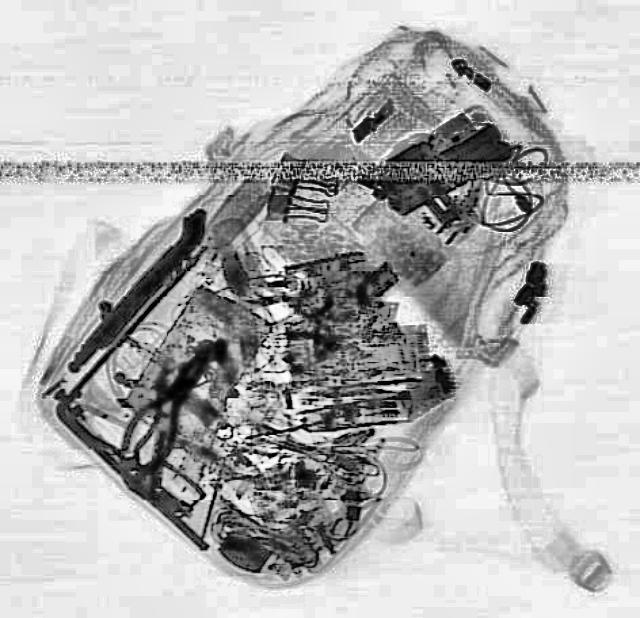Pliers: (106, 336, 228, 478)
